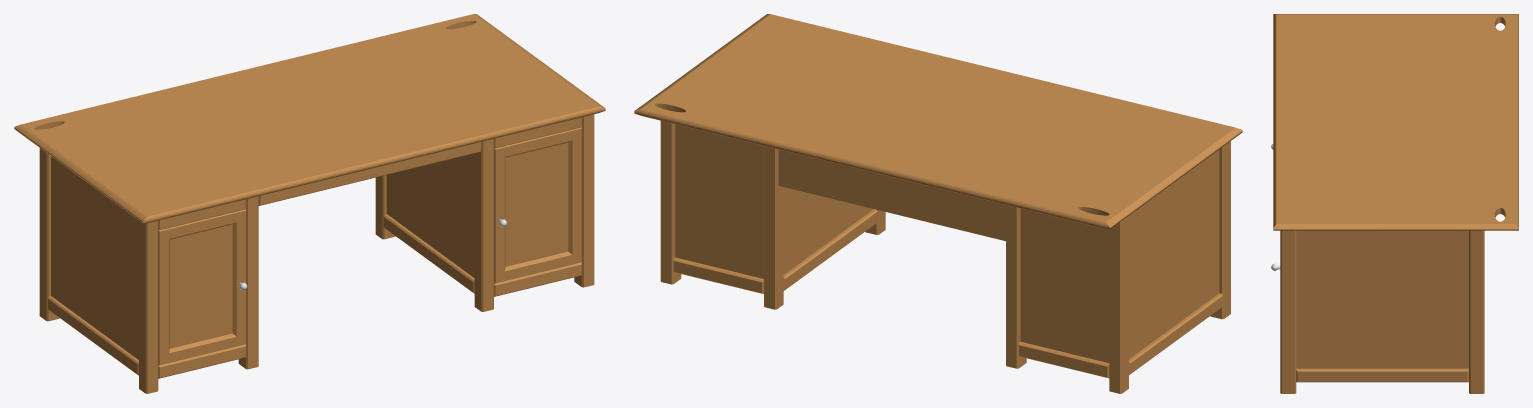
Rendered from desk1.fbx.
The picture shows the model from 3 angles, left to right: view 1: azimuth 30°, elevation 25°; view 2: azimuth 150°, elevation 25°; view 3: azimuth 270°, elevation 25°; orthographic projection. The views are drawn at different scales.
Visible parts, largest first — view 1: pCube3, desk, door1, door2; view 2: desk, pCube3; view 3: pCube3, desk.
Part boxes in pixels (x1,y1,x2,y2): pCube3: [14, 14, 605, 223]; desk: [39, 114, 594, 393]; door1: [158, 209, 245, 365]; door2: [494, 127, 581, 283]; desk: [660, 121, 1230, 393]; pCube3: [634, 14, 1242, 229]; pCube3: [1273, 14, 1518, 230]; desk: [1280, 230, 1484, 393].
Bounding box in the file's own units: 184 × 68.28 × 89.86.
